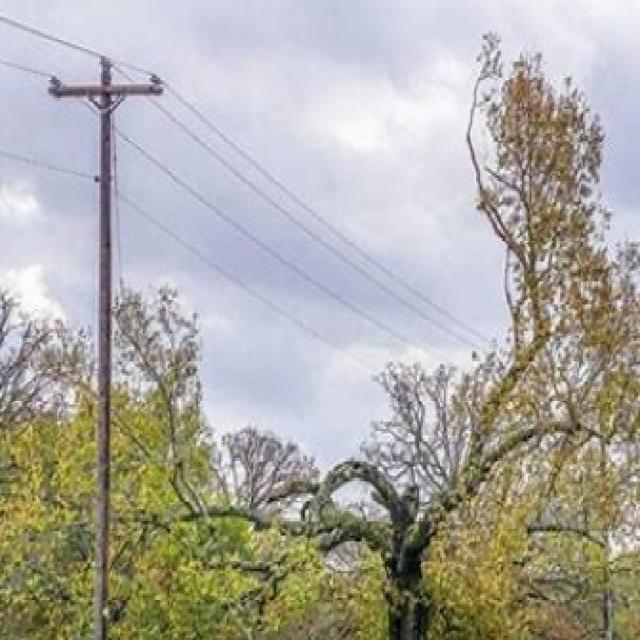utility poles: (51, 55, 169, 640)
